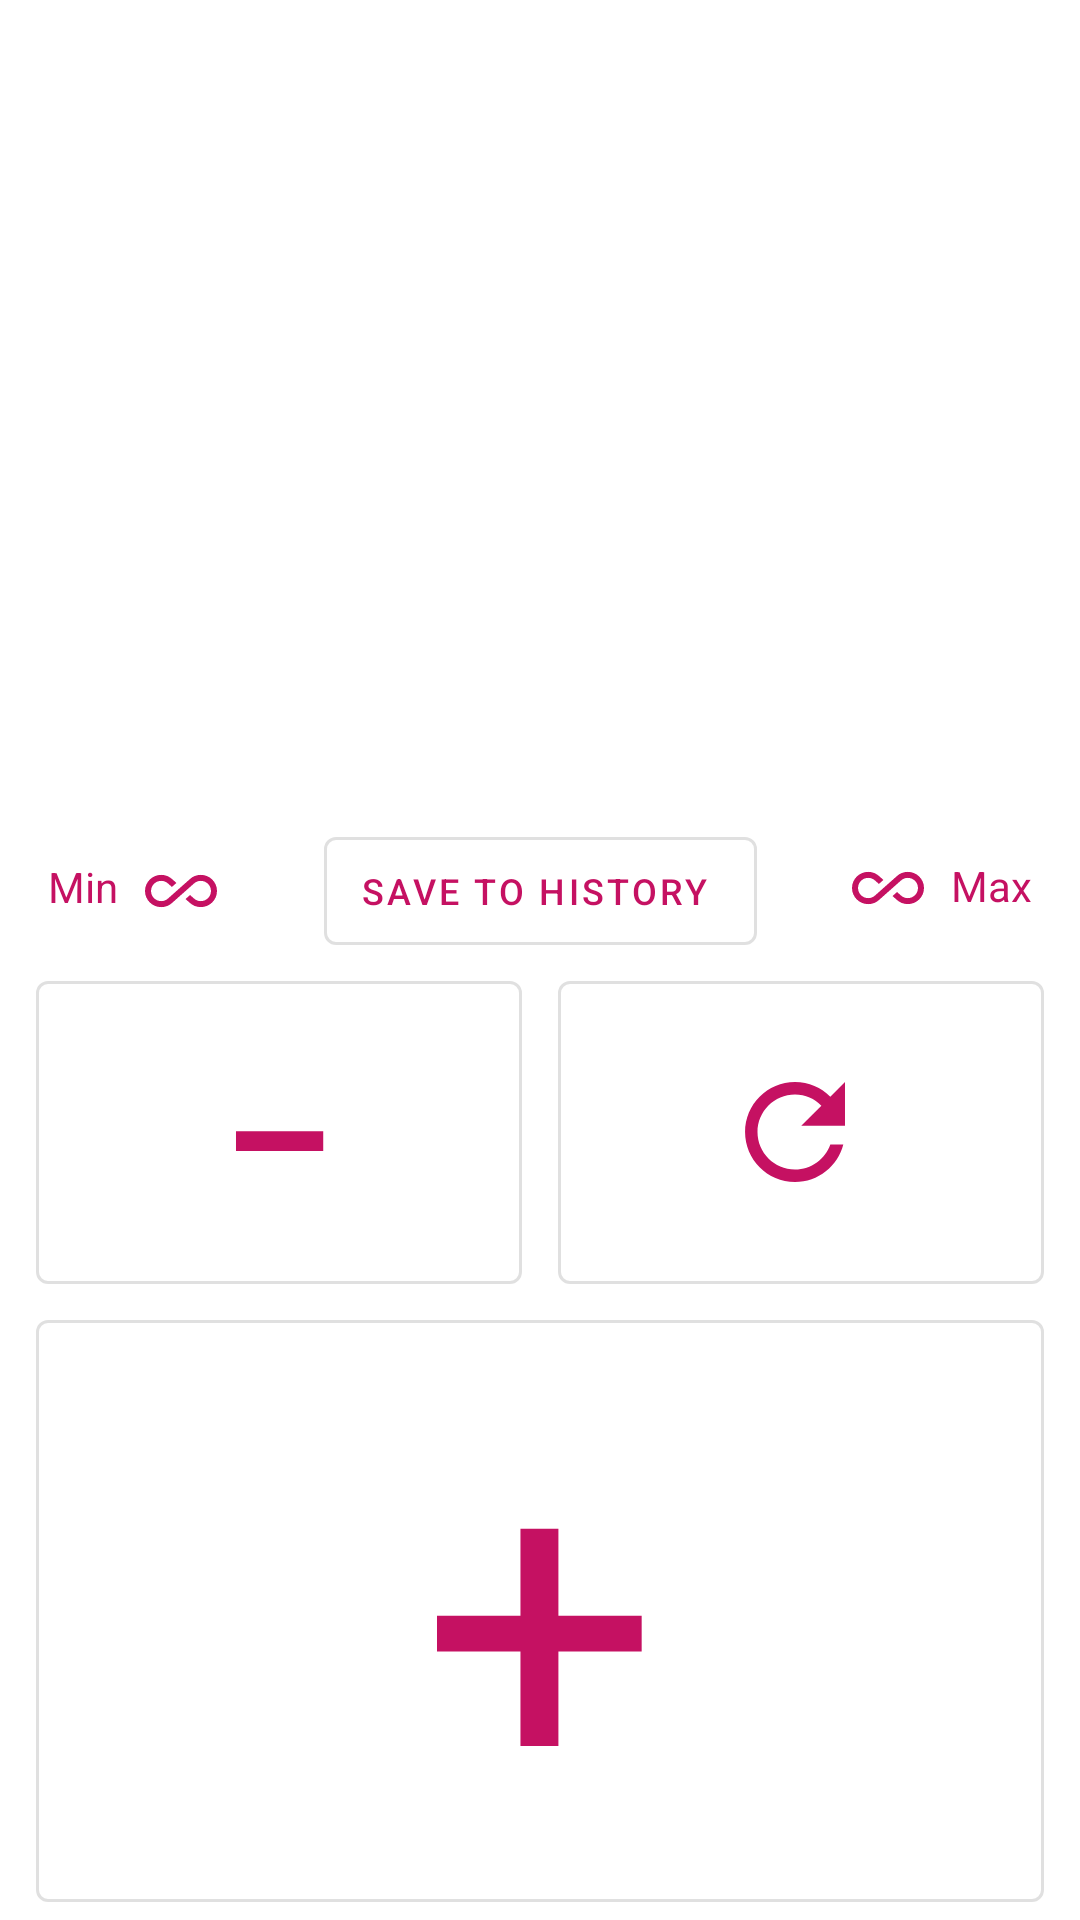

Point at icon controls on the screen. Image size 1080w x 1920h, points as point (x, y).
all inclusive: point (888, 888), point (181, 891)
